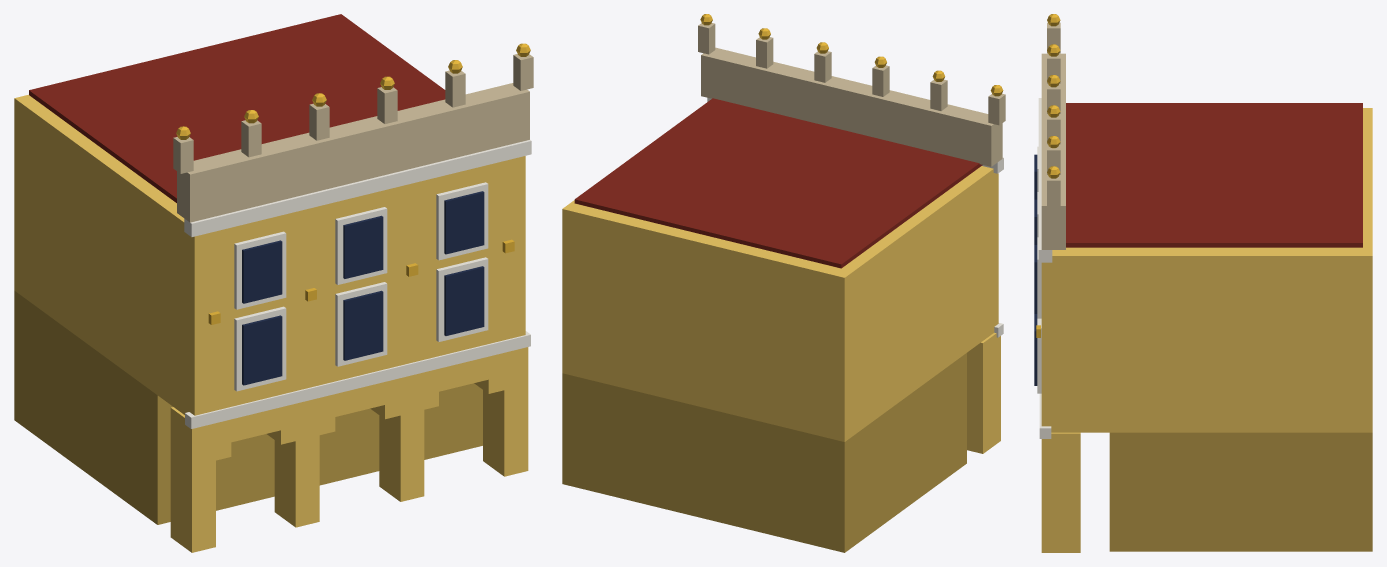
File: kamienica_1.glb
3 renders of one model, left to right at view 1: azimuth 30°, elevation 25°; view 2: azimuth 150°, elevation 25°; view 3: azimuth 270°, elevation 25°, orthographic. The views are drawn at different scales.
Parts seen in each view (by area): view 1: kamienica_1; view 2: kamienica_1; view 3: kamienica_1.
Part boxes in pixels (bbox=[...]): kamienica_1: bbox=[14, 14, 533, 552]; kamienica_1: bbox=[562, 14, 1005, 552]; kamienica_1: bbox=[1034, 14, 1372, 552].
Size of the model in its own units: 3.84 by 4.39 by 3.48.
